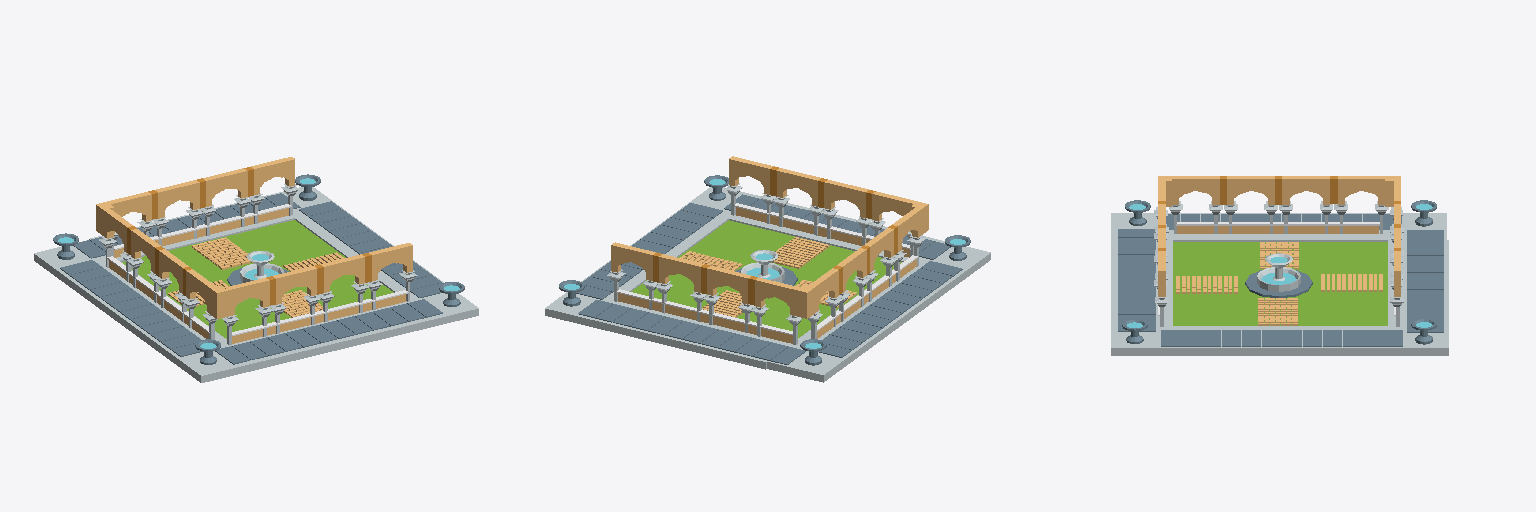
3 views of the same model, side by side, from view 1: azimuth 30°, elevation 25°; view 2: azimuth 150°, elevation 25°; view 3: azimuth 270°, elevation 25° (orthographic).
Parts seen in each view (by area): view 1: model; view 2: model; view 3: model.
Boxes of the visible parts, box(x1,y1,x2,y2) form: model: box(34, 157, 478, 382); model: box(545, 156, 990, 382); model: box(1111, 176, 1448, 355).
Bounding box in the file's own units: 4.79 × 1.05 × 5.04.
7 materials, 7 textured.